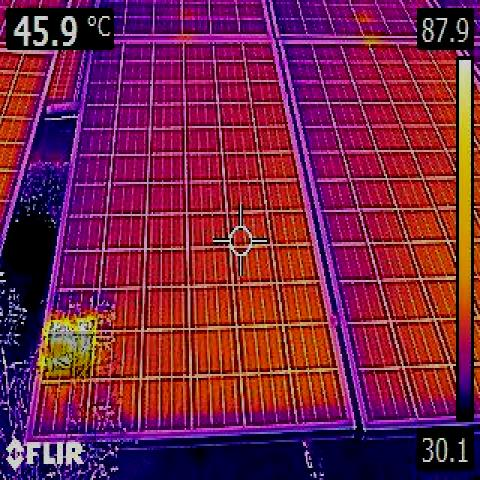fault: (48, 331, 92, 379)
